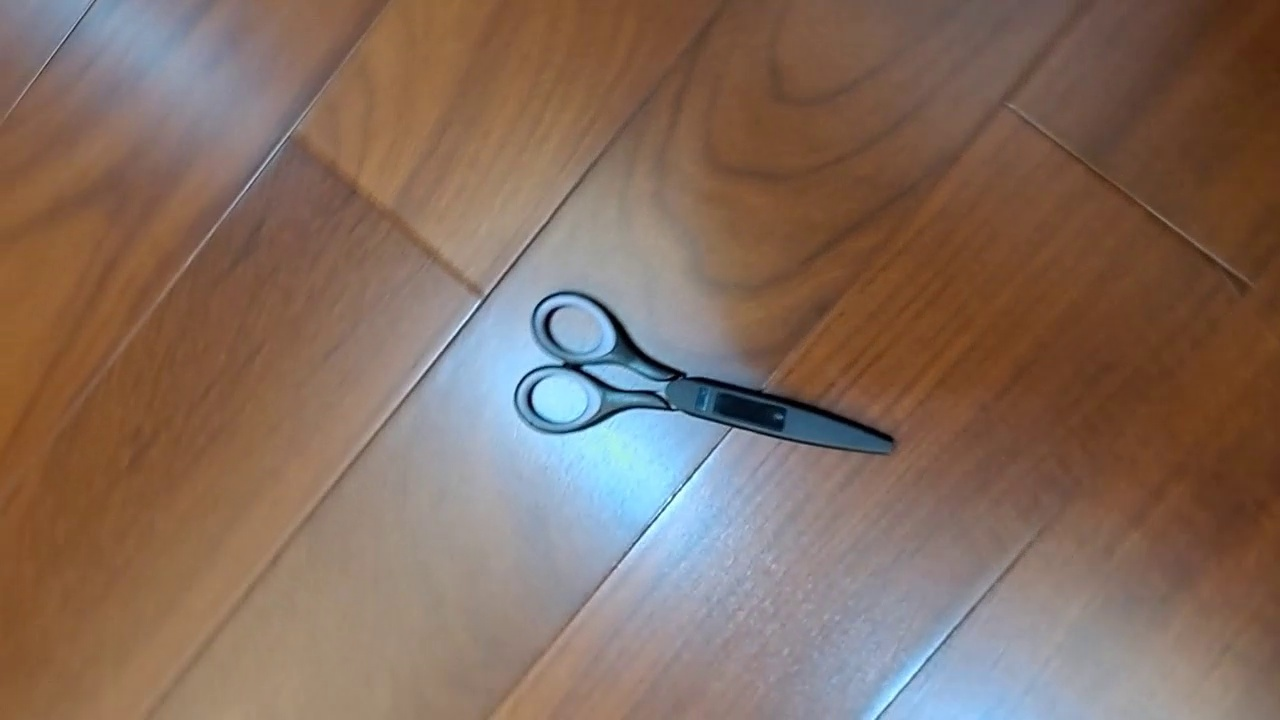scissors: (512, 290, 897, 457)
